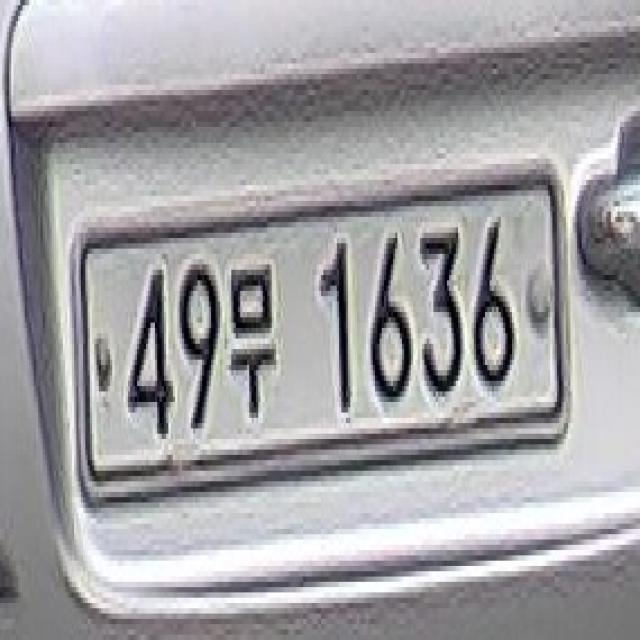1: (316, 236, 361, 424)
3: (418, 219, 466, 411)
4: (126, 256, 176, 469)
6: (468, 215, 521, 408), (368, 226, 414, 426)
9: (178, 258, 226, 444)
license_plate: (63, 137, 593, 572)
mu: (230, 253, 282, 440)
